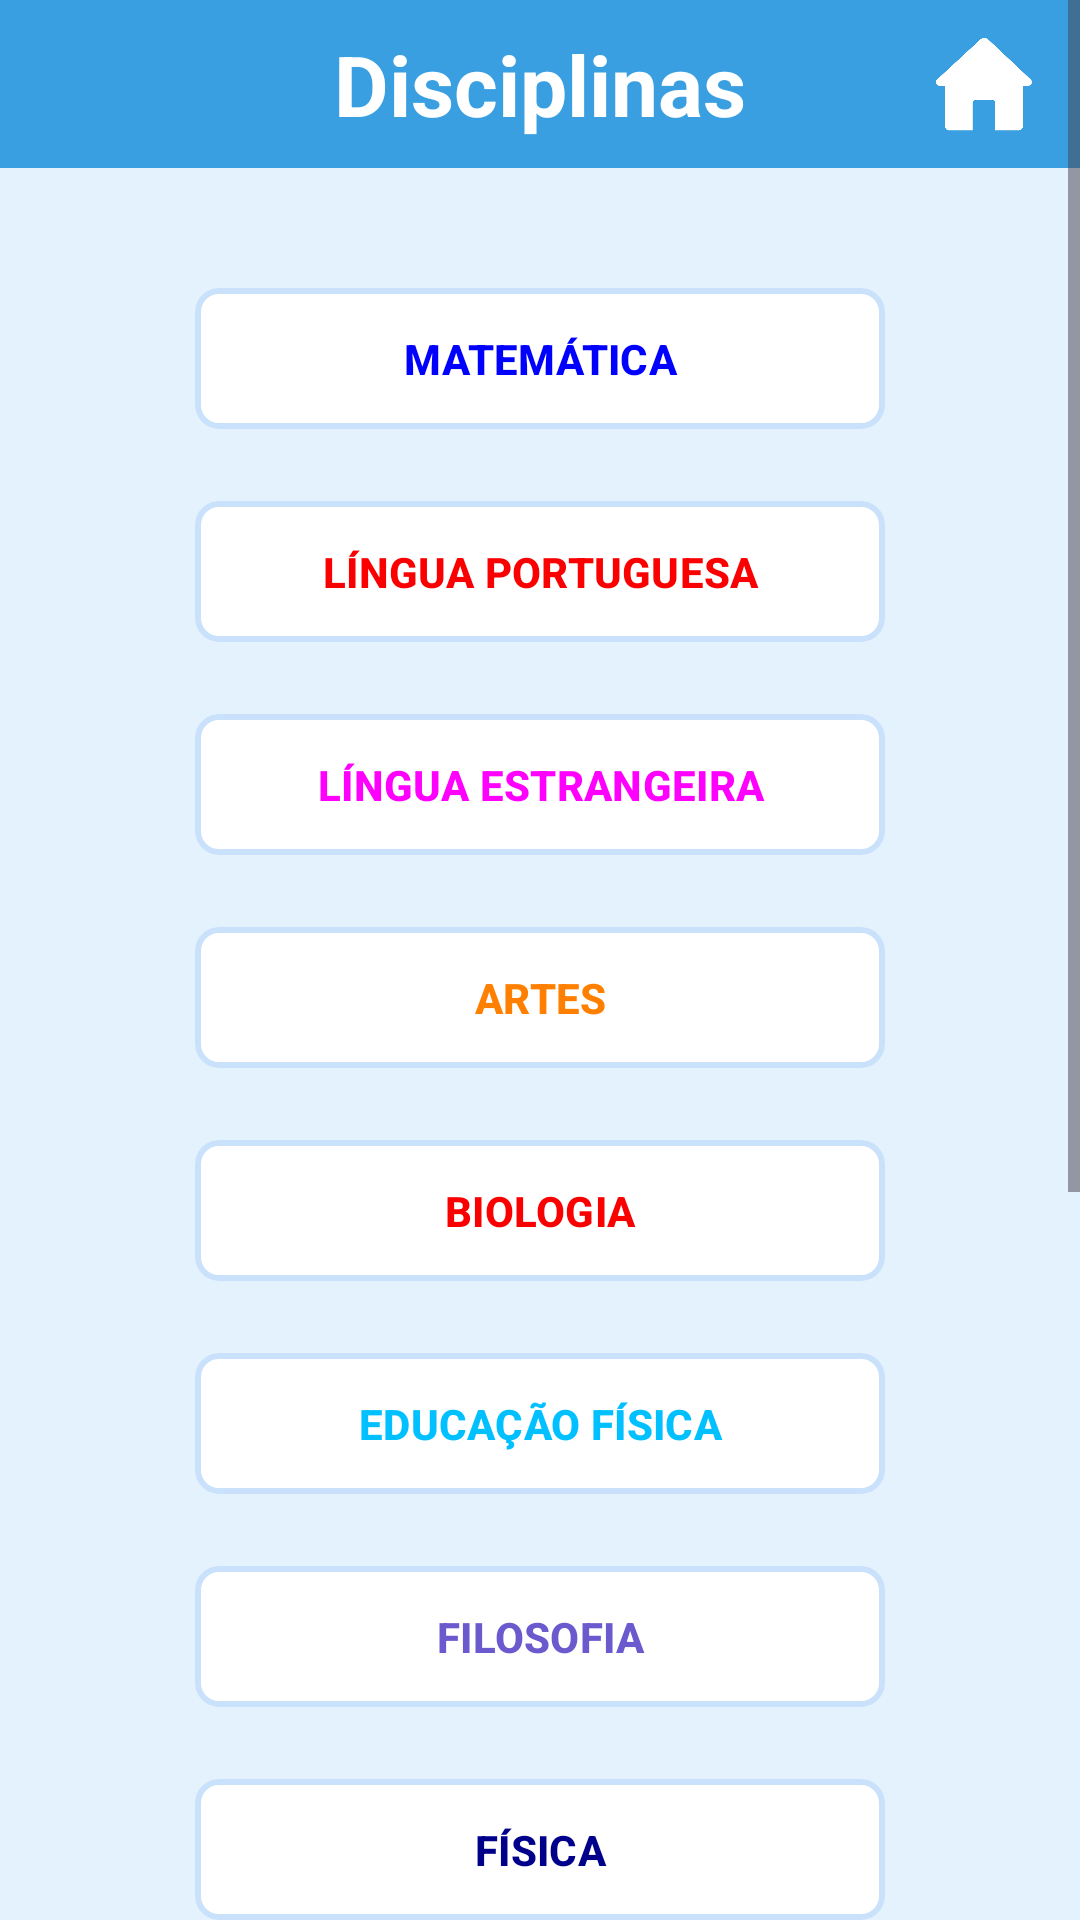

Screen size 1080x1920. Icon name, then its box in pixels as (x1, y1, x2, y2):
Home: (936, 38, 1032, 131)
